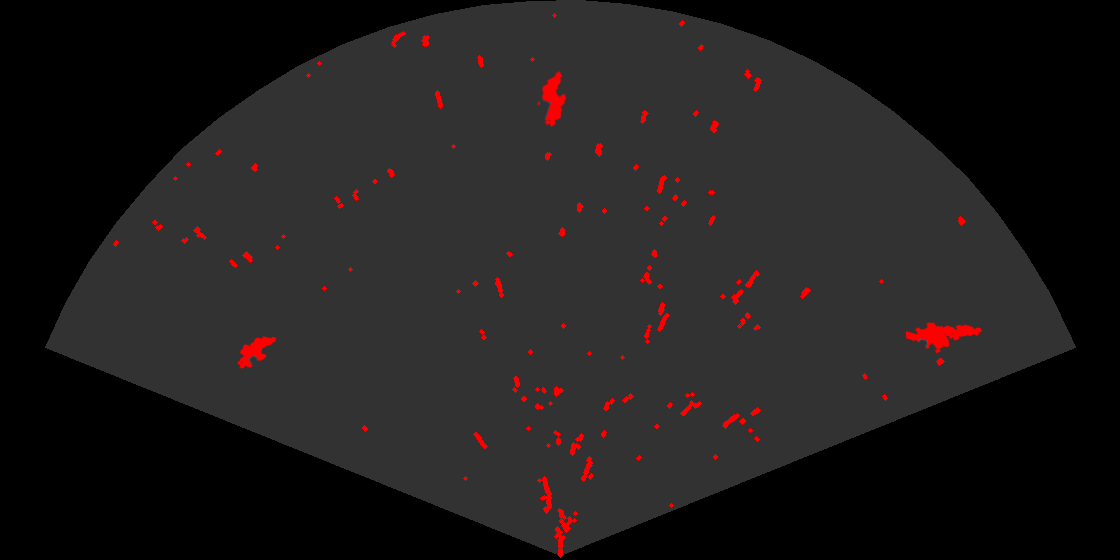AUV: (535, 69, 568, 128), (236, 335, 278, 370)
frogman: (906, 321, 984, 355)
